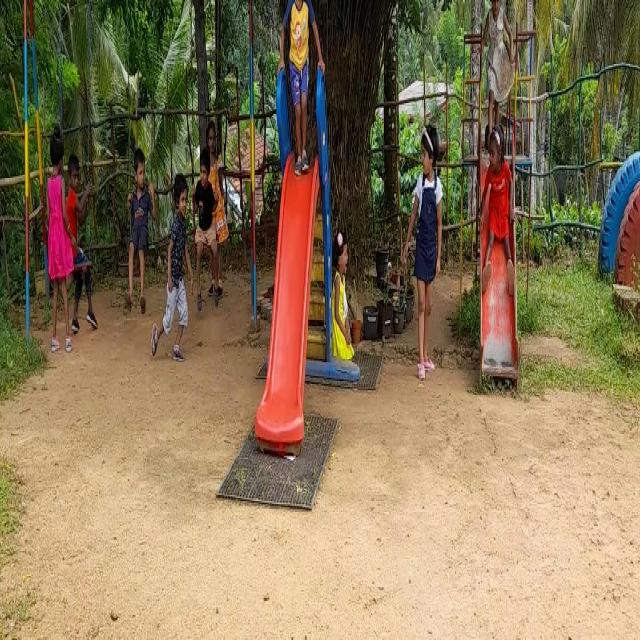child: (403, 119, 454, 401), (152, 175, 192, 376), (285, 0, 325, 165), (121, 121, 154, 318), (482, 116, 514, 304), (68, 147, 95, 336)
